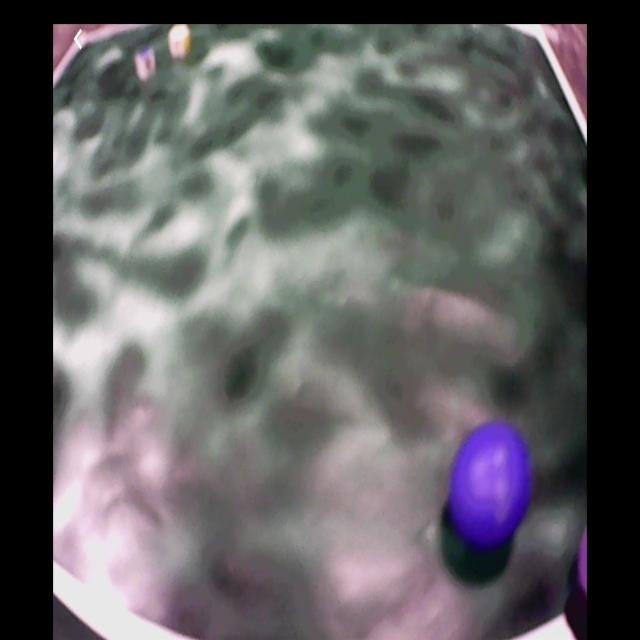ball: (453, 426, 527, 552), (577, 527, 589, 606)
